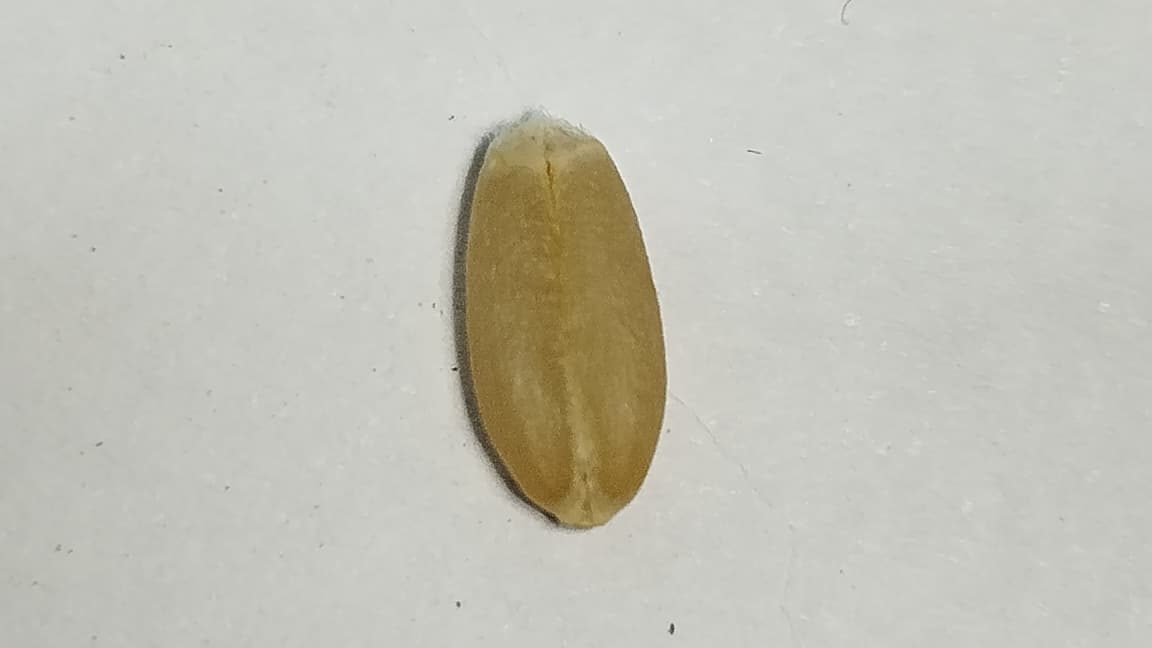healthy: (454, 112, 667, 531)
